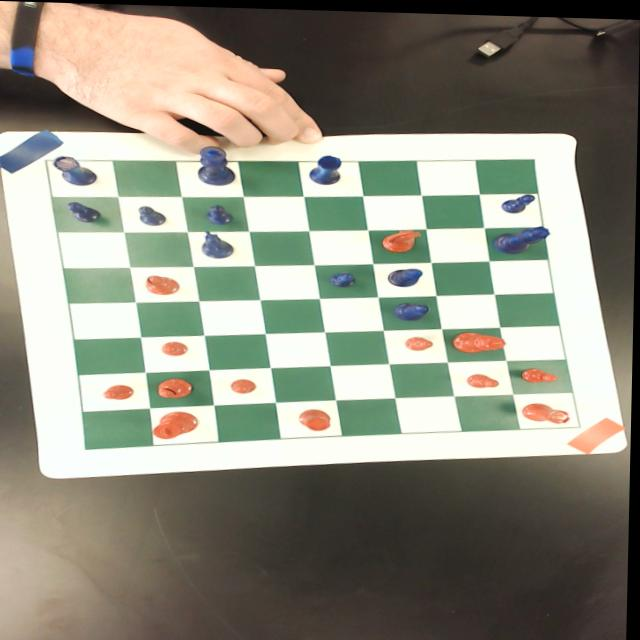B: (389, 264, 425, 284), (396, 298, 430, 318)
K: (196, 144, 238, 185)
N: (201, 228, 236, 256)
P: (65, 201, 104, 221), (502, 189, 537, 210), (139, 204, 169, 225), (207, 202, 235, 223), (331, 269, 359, 285)
Q: (494, 220, 553, 251)
R: (53, 154, 100, 185), (309, 151, 343, 182)
b: (160, 376, 196, 397), (145, 274, 182, 293)
cb: (47, 155, 582, 448)
k: (155, 409, 201, 438)
n: (382, 225, 424, 250)
p: (521, 363, 561, 379), (105, 382, 137, 399), (468, 370, 502, 384), (163, 339, 192, 355), (406, 333, 436, 347), (231, 377, 261, 391)
q: (453, 327, 508, 350)
r: (521, 397, 576, 420), (299, 406, 334, 428)
